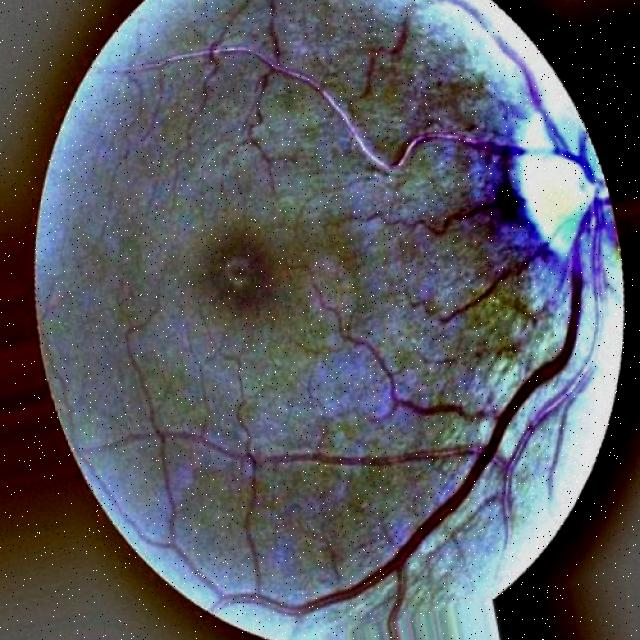Macula: (220, 256, 251, 288)
Nerves: (133, 45, 617, 617)
Optic Disk: (511, 154, 595, 257)
